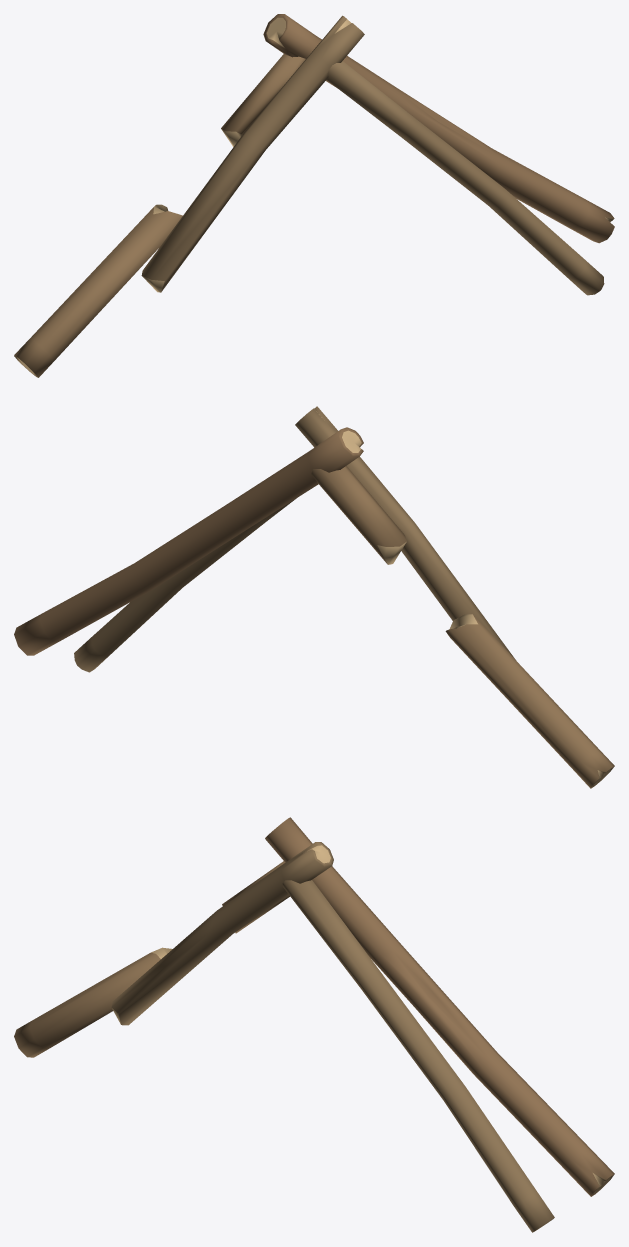
Rendered from rpgpp_av_roof_01_6x3x3_end_01.gltf.
The picture shows the model from 3 angles, top to bottom: view 1: azimuth 30°, elevation 25°; view 2: azimuth 150°, elevation 25°; view 3: azimuth 330°, elevation 25°; orthographic projection.
Visible parts, largest first — view 1: rpgpp_av_roof_01_6x3x3_end_01; view 2: rpgpp_av_roof_01_6x3x3_end_01; view 3: rpgpp_av_roof_01_6x3x3_end_01.
Boxes of the visible parts, box(x1,y1,x2,y2) form: rpgpp_av_roof_01_6x3x3_end_01: box(14, 14, 614, 377); rpgpp_av_roof_01_6x3x3_end_01: box(14, 406, 614, 788); rpgpp_av_roof_01_6x3x3_end_01: box(14, 817, 614, 1232).
Bounding box in the file's own units: 0.0859 × 0.0453 × 0.0103.
Materials: 1 (1 with a texture image).
